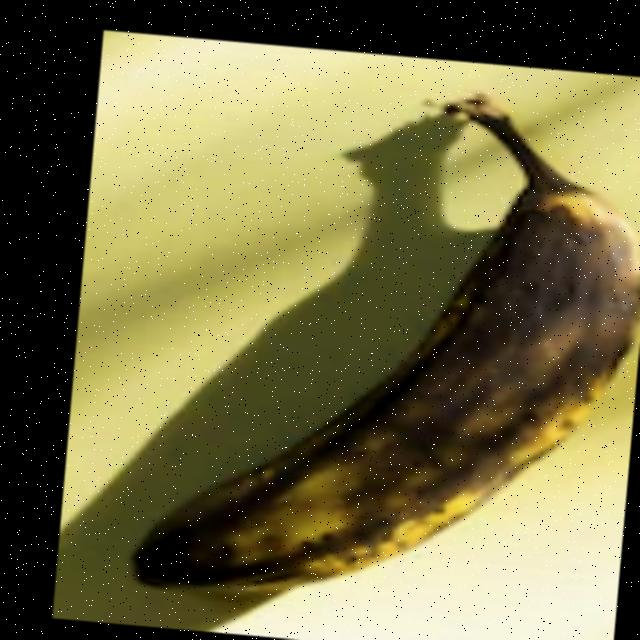Rotten: (108, 57, 640, 640)
